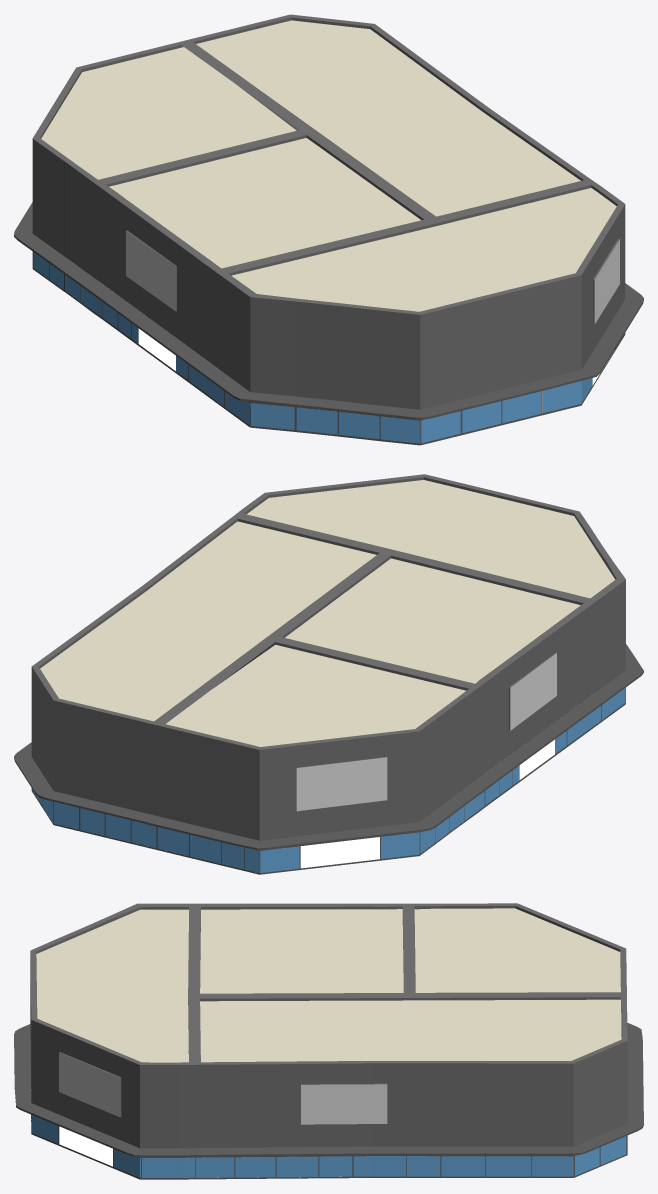
Rendered from hacov3.glb.
3 views of the same model, one above another, from view 1: azimuth 30°, elevation 25°; view 2: azimuth 150°, elevation 25°; view 3: azimuth 270°, elevation 25° (orthographic). The views are drawn at different scales.
Visible parts, largest first — view 1: 279815706.003; view 2: 279815706.003; view 3: 279815706.003.
Boxes of the visible parts, <box> form: 279815706.003: <box>14,14,643,445</box>; 279815706.003: <box>14,474,643,874</box>; 279815706.003: <box>14,903,643,1179</box>.
Bounding box in the file's own units: 171 × 52.09 × 259.
